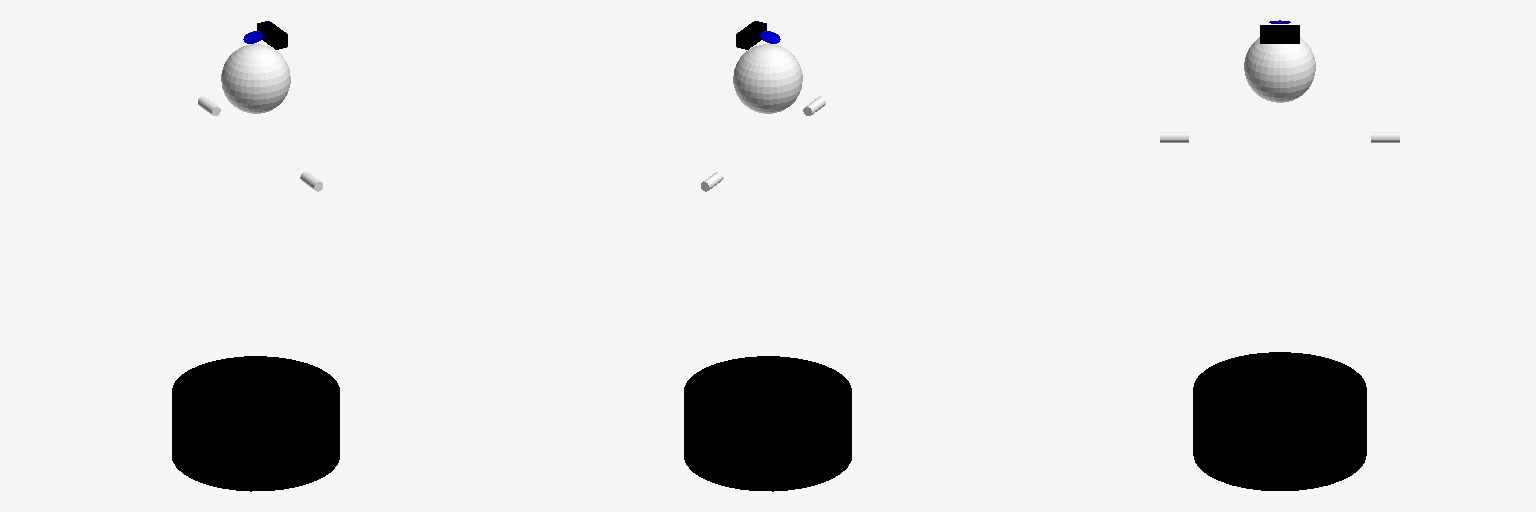
robot.urdf — quori:
<?xml version="1.0" ?>
<!-- =================================================================================== -->
<!-- |    This document was autogenerated by xacro from quori.xacro                    | -->
<!-- |    EDITING THIS FILE BY HAND IS NOT RECOMMENDED                                 | -->
<!-- =================================================================================== -->
<robot name="quori">
  <link name="quori/base_link">
    <inertial>
      <origin rpy="0 0 0" xyz="0 0 0.23"/>
      <mass value="2"/>
      <inertia ixx="0.052" ixy="0" ixz="0" iyy="0.052" iyz="0" izz="0.031"/>
    </inertial>
    <visual>
      <origin rpy="0 0 -1.57079632679" xyz="0.02 0 -0.2007174"/>
      <geometry>
        <mesh filename="model://quori/meshes/180915_Lower_Torso.dae"/>
      </geometry>
    </visual>
  </link>
  <link name="quori/body_upper">
    <inertial>
      <origin rpy="0 0 0" xyz="0 0 -0.01"/>
      <mass value="26.75"/>
      <inertia ixx="2.5" ixy="0" ixz="0" iyy="2.5" iyz="0" izz="0.134"/>
    </inertial>
    <visual>
      <origin rpy="0 0 -1.57079632679" xyz="0.02 0 -0.5476974"/>
      <geometry>
        <mesh filename="model://quori/meshes/0917_Upper_Torso+Waist.dae"/>
      </geometry>
    </visual>
  </link>
  <joint name="waist_pitch" type="revolute">
    <origin rpy="0 0 0" xyz="0 0 0.34798"/>
    <parent link="quori/base_link"/>
    <child link="quori/body_upper"/>
    <axis xyz="0 -1 0"/>
    <limit effort="1" lower="-0.47123889803846897" upper="0.2111848394913139" velocity="1"/>
  </joint>
  <link name="quori/r_shoulder">
    <inertial>
      <origin rpy="0 0 0" xyz="0 0 0"/>
      <mass value="0.01"/>
      <inertia ixx="0.01" ixy="0" ixz="0" iyy="0.0" iyz="0" izz="0.0"/>
    </inertial>
  </link>
  <joint name="r_shoulder_pitch" type="revolute">
    <origin rpy="0 0 0" xyz="0.015 -0.16403066 0.43021758"/>
    <parent link="quori/body_upper"/>
    <child link="quori/r_shoulder"/>
    <axis xyz="0 -1 0"/>
    <limit effort="1" lower="-2.4" upper="2.4" velocity="1"/>
  </joint>
  <link name="quori/r_arm_upper">
    <inertial>
      <origin rpy="0 0 0" xyz="0 0 0"/>
      <mass value="0.01"/>
      <inertia ixx="0.1" ixy="0" ixz="0" iyy="0.0" iyz="0" izz="0.0"/>
    </inertial>
    <visual>
      <origin rpy="-1.57079632679 0 0" xyz="0.165 -0.9765 -0.137"/>
      <geometry>
        <mesh filename="model://quori/meshes/0917_Upper_Arm+gear_right.dae"/>
      </geometry>
    </visual>
  </link>
  <joint name="r_shoulder_roll" type="revolute">
    <origin rpy="0 0 0" xyz="0 0 0"/>
    <parent link="quori/r_shoulder"/>
    <child link="quori/r_arm_upper"/>
    <axis xyz="-1 0 0"/>
    <limit effort="1" lower="-1.1" upper="1.1" velocity="1"/>
  </joint>
  <link name="quori/r_arm_upper2lower">
    <inertial>
      <origin rpy="0 0 0" xyz="0 0 0.3"/>
      <mass value="0.19"/>
      <inertia ixx="0.006" ixy="0" ixz="0" iyy="0.006" iyz="0" izz="0.0"/>
    </inertial>
    <visual>
      <origin rpy="-1.57079632679 0 0" xyz="0 -0.13 0"/>
      <geometry>
        <cylinder length="0.08" radius="0.015"/>
      </geometry>
      <material name="white"/>
    </visual>
  </link>
  <joint name="r_arm_upper2lower_j" type="fixed">
    <parent link="quori/r_arm_upper"/>
    <child link="quori/r_arm_upper2lower"/>
  </joint>
  <link name="quori/r_arm_lower">
    <inertial>
      <origin rpy="0 0 0" xyz="0 0 0"/>
      <mass value="0.01"/>
      <inertia ixx="0.1" ixy="0" ixz="0" iyy="0.0" iyz="0" izz="0.0"/>
    </inertial>
    <visual>
      <origin rpy="1.570759635 1.570759635 0" xyz="0 0 0"/>
      <geometry>
        <mesh filename="model://quori/meshes/0917_Lower_Arm_right.dae"/>
      </geometry>
    </visual>
  </link>
  <joint name="r_elbow_pitch" type="fixed">
    <origin rpy="0 0 0" xyz="0 -0.15 0"/>
    <parent link="quori/r_arm_upper"/>
    <child link="quori/r_arm_lower"/>
  </joint>
  <link name="quori/l_shoulder">
    <inertial>
      <origin rpy="0 0 0" xyz="0 0 0"/>
      <mass value="0.1"/>
      <inertia ixx="0.1" ixy="0" ixz="0" iyy="0.0" iyz="0" izz="0.0"/>
    </inertial>
  </link>
  <joint name="l_shoulder_pitch" type="revolute">
    <origin rpy="0 0 0" xyz="0.015 0.16403066 0.43021758"/>
    <parent link="quori/body_upper"/>
    <child link="quori/l_shoulder"/>
    <axis xyz="0 -1 0"/>
    <limit effort="1" lower="-2.4" upper="2.4" velocity="1"/>
  </joint>
  <link name="quori/l_arm_upper">
    <inertial>
      <origin rpy="0 0 0" xyz="0 0 0"/>
      <mass value="0.01"/>
      <inertia ixx="0.1" ixy="0" ixz="0" iyy="0.0" iyz="0" izz="0.0"/>
    </inertial>
    <visual>
      <origin rpy="-1.57079632679 0 -3.14" xyz="0.165 0.9765 -0.137"/>
      <geometry>
        <mesh filename="model://quori/meshes/0917_Upper_Arm+gear_left.dae"/>
      </geometry>
    </visual>
  </link>
  <joint name="l_shoulder_roll" type="revolute">
    <origin rpy="0 0 0" xyz="0 0 0"/>
    <parent link="quori/l_shoulder"/>
    <child link="quori/l_arm_upper"/>
    <axis xyz="1 0 0"/>
    <limit effort="1" lower="-1.1" upper="1.1" velocity="1"/>
  </joint>
  <link name="quori/l_arm_upper2lower">
    <inertial>
      <origin rpy="0 0 0" xyz="0 0 0.3"/>
      <mass value="0.19"/>
      <inertia ixx="0.006" ixy="0" ixz="0" iyy="0.006" iyz="0" izz="0.0"/>
    </inertial>
    <visual>
      <origin rpy="-1.57079632679 0 0" xyz="0 0.13 0"/>
      <geometry>
        <cylinder length="0.08" radius="0.015"/>
      </geometry>
      <material name="white"/>
    </visual>
  </link>
  <joint name="l_arm_upper2lower_j" type="fixed">
    <parent link="quori/l_arm_upper"/>
    <child link="quori/l_arm_upper2lower"/>
  </joint>
  <link name="quori/l_arm_lower">
    <inertial>
      <origin rpy="0 0 0" xyz="0 0 0"/>
      <mass value="0.01"/>
      <inertia ixx="0.1" ixy="0" ixz="0" iyy="0.0" iyz="0" izz="0.0"/>
    </inertial>
    <visual>
      <origin rpy="-1.570759635 -1.570759635 0" xyz="0 0 0"/>
      <geometry>
        <mesh filename="model://quori/meshes/0917_Lower_Arm_left.dae"/>
      </geometry>
    </visual>
  </link>
  <joint name="l_elbow_pitch" type="fixed">
    <origin rpy="0 0 0" xyz="0 0.15 0"/>
    <parent link="quori/l_arm_upper"/>
    <child link="quori/l_arm_lower"/>
  </joint>
  <link name="quori/head">
    <inertial>
      <origin rpy="0 0 0" xyz="0 0 0"/>
      <mass value="1.9"/>
      <inertia ixx="0.008" ixy="0" ixz="0" iyy="0.0056" iyz="0" izz="0.0056"/>
    </inertial>
    <visual>
      <origin rpy="0 0 -1.57079632679" xyz="0.01 0 -1.11"/>
      <geometry>
        <mesh filename="model://quori/meshes/0917_Helmet_Duripod.dae"/>
      </geometry>
    </visual>
  </link>
  <link name="quori/face">
    <visual>
      <origin xyz="0 0 0.085"/>
      <geometry>
        <sphere radius="0.1"/>
      </geometry>
      <material name="white"/>
    </visual>
  </link>
  <joint name="head_swivel" type="fixed">
    <parent link="quori/head"/>
    <child link="quori/face"/>
  </joint>
  <gazebo reference="quori/face">
    <visual>
      <plugin filename="libfaceplugin.so" name="faceplugin"> <!-- Plugin to project images to the face. This package is in the CMU repository-->
        <robotNamespace>quori</robotNamespace>
        <height>120</height>
        <width>240</width>
      </plugin>
    </visual>
  </gazebo>
  <joint name="neck" type="fixed">
    <origin rpy="0 0 0" xyz="0 0 0.554"/>
    <parent link="quori/body_upper"/>
    <child link="quori/head"/>
  </joint>
  <joint name="head_camera_optical_joint" type="fixed">
    <origin rpy="-1.57079632679 0 -1.57079632679" xyz="0 0 0"/>
    <parent link="quori/head_camera"/>
    <child link="quori/head_camera_optical"/>
  </joint>
  <link name="quori/head_camera_optical">
  </link>
  <link name="quori/head_camera">
    <inertial>
      <origin rpy="0 0 0" xyz="0 0 0"/>
      <mass value="0.3"/>
      <inertia ixx="0.0004" ixy="0" ixz="0" iyy="0.0001" iyz="0" izz="0.0004"/>
    </inertial>
    <visual>
      <geometry>
        <box size="0.04 0.11 0.04"/>
      </geometry>
      <origin rpy="0 0 0" xyz="0 0 -0"/>
      <material name="black"/>
    </visual>
  </link>
  <joint name="camera_pitch" type="fixed">
    <origin rpy="0 0 0" xyz="0.055 0 0.21"/>
    <parent link="quori/head"/>
    <child link="quori/head_camera"/>
  </joint>
  <link name="quori/head_mic">
    <inertial>
      <origin rpy="0 0 0" xyz="0 0 0"/>
      <mass value="0.05"/>
      <inertia ixx="0.1" ixy="0" ixz="0" iyy="0.0" iyz="0" izz="0.0"/>
    </inertial>
    <visual>
      <geometry>
        <cylinder length="0.002" radius="0.03"/>
      </geometry>
      <origin rpy="0 0 0" xyz="0 0 -0"/>
      <material name="blue"/>
    </visual>
  </link>
  <joint name="mic_array" type="fixed">
    <origin rpy="0 -.3 0" xyz="-0.008 0 0.218"/>
    <parent link="quori/head"/>
    <child link="quori/head_mic"/>
  </joint>
  <material name="ramsis/base_link_material">
    <color rgba="0 0 0 1"/>
  </material>
  <material name="ramsis/laser_scanner_material">
    <color rgba="0.3 0.3 0.3 1"/>
  </material>
  <link name="ramsis/base_link_diff">
    <inertial>
      <origin rpy="0 0 0" xyz="0 0 0.1013587"/>
      <mass value="9.8"/>
      <inertia ixx="0.176" ixy="0" ixz="0" iyy="0.176" iyz="0" izz="0.285"/>
    </inertial>
    <visual>
      <origin rpy="0 0 0" xyz="0 0 0.1013587"/>
      <geometry>
        <cylinder length="0.2027174" radius="0.2413"/>
      </geometry>
      <material name="ramsis/base_link_material"/>
    </visual>
  </link>
  <link name="ramsis/base_laser_scanner">
    <inertial>
      <mass value="0.17"/>
      <inertia ixx="0.0001" ixy="0" ixz="0" iyy="0.0001" iyz="0" izz="0.0001"/>
    </inertial>
    <visual>
      <geometry>
        <cylinder length="0.025" radius="0.05"/>
      </geometry>
      <origin rpy="0 0 0" xyz="0 0 -0"/>
      <material name="ramsis/laser_scanner_material"/>
    </visual>
  </link>
  <joint name="laser_scanner_joint" type="fixed">
    <origin rpy="0 0.0 -1.5707" xyz="0.152 0 0.156"/>
    <parent link="ramsis/base_link_diff"/>
    <child link="ramsis/base_laser_scanner"/>
  </joint>
  <link name="ramsis/turret_link">
    <inertial>
      <origin rpy="0 0 0" xyz="0 0 0"/>
      <mass value="0.01"/>
      <inertia ixx="0.01" ixy="0" ixz="0" iyy="0.0" iyz="0" izz="0.0"/>
    </inertial>
  </link>
  <link name="ramsis/base_link">
    <inertial>
      <origin rpy="0 0 0" xyz="0 0 0"/>
      <mass value="0.01"/>
      <inertia ixx="0.01" ixy="0" ixz="0" iyy="0.0" iyz="0" izz="0.0"/>
    </inertial>
  </link>
  <link name="ramsis/l_wheel_link">
    <inertial>
      <origin rpy="0 0 0" xyz="0 0 0"/>
      <mass value="0.1"/>
      <inertia ixx="0.1" ixy="0" ixz="0" iyy="0.0" iyz="0" izz="0.0"/>
    </inertial>
  </link>
  <link name="ramsis/r_wheel_link">
    <inertial>
      <origin rpy="0 0 0" xyz="0 0 0"/>
      <mass value="0.1"/>
      <inertia ixx="0.1" ixy="0" ixz="0" iyy="0.0" iyz="0" izz="0.0"/>
    </inertial>
  </link>
  <joint name="ramsis/wheel_axle_joint" type="fixed">
    <origin xyz="0.1 0 -0.075"/>
    <parent link="ramsis/wheel_axle"/>
    <child link="ramsis/base_link_diff"/>
  </joint>
  <joint name="turret2base" type="fixed">
    <origin xyz="0 0 -0.2027174"/>
    <parent link="ramsis/turret_link"/>
    <child link="ramsis/base_link"/>
  </joint>
  <link name="ramsis/wheel_axle">
    <inertial>
      <origin rpy="0 0 0" xyz="0 0 0"/>
      <mass value="0.00"/>
      <inertia ixx="0.00" ixy="0" ixz="0" iyy="0.0" iyz="0" izz="0.0"/>
    </inertial>
  </link>
  <joint name="l_wheel" type="continuous">
    <origin rpy="0 0 0" xyz="0 0.12284075 0"/>
    <parent link="ramsis/wheel_axle"/>
    <child link="ramsis/l_wheel_link"/>
    <axis xyz="0 1 0"/>
    <limit effort="1" velocity="0.5"/>
  </joint>
  <joint name="r_wheel" type="continuous">
    <origin rpy="0 0 0" xyz="0 -0.12284075 0"/>
    <parent link="ramsis/wheel_axle"/>
    <child link="ramsis/r_wheel_link"/>
    <axis xyz="0 1 0"/>
    <limit effort="1" velocity="0.5"/>
  </joint>
  <joint name="turret" type="continuous">
    <origin rpy="0 0 0" xyz="0 0 0.2027174"/>
    <parent link="ramsis/base_link_diff"/>
    <child link="ramsis/turret_link"/>
    <axis xyz="0 0 1"/>
    <limit effort="1" velocity="3"/>
  </joint>
  <quori_kinematics/>
  <ramsis_kinematics/>
  <material name="blue">
    <color rgba="0 0 0.8 1"/>
  </material>
  <material name="black">
    <color rgba="0 0 0 1"/>
  </material>
  <material name="white">
    <color rgba="1 1 1 1"/>
  </material>
  <material name="gray">
    <color rgba="0.5 0.5 0.5 1"/>
  </material>
  <!-- Join the quori robot to the ramsis robot's turret joint -->
  <joint name="ramsis_quori_connector" type="fixed">
    <parent link="ramsis/turret_link"/>
    <child link="quori/base_link"/>
  </joint>
  <link name="world"/>
  <joint name="fixed" type="fixed">
    <parent link="world"/>
    <child link="ramsis/wheel_axle"/>
  </joint>
  <transmission name="waist_pitch_tran">
    <type>transmission_interface/SimpleTransmission</type>
    <actuator name="waist_pitch_motor">
      <hardwareInterface>hardware_interface/PositionJointInterface</hardwareInterface>
      <mechanicalReduction>1</mechanicalReduction>
    </actuator>
    <joint name="waist_pitch">
      <hardwareInterface>hardware_interface/PositionJointInterface</hardwareInterface>
    </joint>
  </transmission>
  <transmission name="r_shoulder_pitch_tran">
    <type>transmission_interface/SimpleTransmission</type>
    <actuator name="r_shoulder_pitch_motor">
      <hardwareInterface>hardware_interface/PositionJointInterface</hardwareInterface>
      <mechanicalReduction>1</mechanicalReduction>
    </actuator>
    <joint name="r_shoulder_pitch">
      <hardwareInterface>hardware_interface/PositionJointInterface</hardwareInterface>
    </joint>
  </transmission>
  <transmission name="r_shoulder_roll_tran">
    <type>transmission_interface/SimpleTransmission</type>
    <actuator name="r_shoulder_roll_motor">
      <hardwareInterface>hardware_interface/PositionJointInterface</hardwareInterface>
      <mechanicalReduction>1</mechanicalReduction>
    </actuator>
    <joint name="r_shoulder_roll">
      <hardwareInterface>hardware_interface/PositionJointInterface</hardwareInterface>
    </joint>
  </transmission>
  <transmission name="l_shoulder_pitch_tran">
    <type>transmission_interface/SimpleTransmission</type>
    <actuator name="l_shoulder_pitch_motor">
      <hardwareInterface>hardware_interface/PositionJointInterface</hardwareInterface>
      <mechanicalReduction>1</mechanicalReduction>
    </actuator>
    <joint name="l_shoulder_pitch">
      <hardwareInterface>hardware_interface/PositionJointInterface</hardwareInterface>
    </joint>
  </transmission>
  <transmission name="l_shoulder_roll_tran">
    <type>transmission_interface/SimpleTransmission</type>
    <actuator name="l_shoulder_roll_motor">
      <hardwareInterface>hardware_interface/PositionJointInterface</hardwareInterface>
      <mechanicalReduction>1</mechanicalReduction>
    </actuator>
    <joint name="l_shoulder_roll">
      <hardwareInterface>hardware_interface/PositionJointInterface</hardwareInterface>
    </joint>
  </transmission>
  <transmission name="l_wheel_tran">
    <type>transmission_interface/SimpleTransmission</type>
    <actuator name="l_wheel_motor">
      <hardwareInterface>hardware_interface/VelocityJointInterface</hardwareInterface>
      <mechanicalReduction>1</mechanicalReduction>
    </actuator>
    <joint name="l_wheel">
      <hardwareInterface>hardware_interface/VelocityJointInterface</hardwareInterface>
    </joint>
  </transmission>
  <transmission name="r_wheel_tran">
    <type>transmission_interface/SimpleTransmission</type>
    <actuator name="r_wheel_motor">
      <hardwareInterface>hardware_interface/VelocityJointInterface</hardwareInterface>
      <mechanicalReduction>1</mechanicalReduction>
    </actuator>
    <joint name="r_wheel">
      <hardwareInterface>hardware_interface/VelocityJointInterface</hardwareInterface>
    </joint>
  </transmission>
  <transmission name="turret_tran">
    <type>transmission_interface/SimpleTransmission</type>
    <actuator name="turret_motor">
      <hardwareInterface>hardware_interface/PositionJointInterface</hardwareInterface>
      <mechanicalReduction>1</mechanicalReduction>
    </actuator>
    <joint name="turret">
      <hardwareInterface>hardware_interface/PositionJointInterface</hardwareInterface>
    </joint>
  </transmission>
  <gazebo reference="quori/body_upper">
    <material>Gazebo/White</material>
  </gazebo>
  <gazebo reference="quori/base_link">
    <material>Gazebo/White</material>
  </gazebo>
  <gazebo reference="quori/head">
    <material>Gazebo/White</material>
  </gazebo>
  <gazebo reference="quori/r_arm_upper">
    <material>Gazebo/White</material>
  </gazebo>
  <gazebo reference="quori/r_arm_lower">
    <material>Gazebo/White</material>
  </gazebo>
  <gazebo reference="quori/l_arm_upper">
    <material>Gazebo/White</material>
  </gazebo>
  <gazebo reference="quori/l_arm_lower">
    <material>Gazebo/White</material>
  </gazebo>
  <gazebo reference="base_link_diff">
    <material>Gazebo/White</material>
  </gazebo>
  <gazebo>
    <plugin filename="libgazebo_ros_control.so" name="gazebo_ros_control">
      <!-- <robotNamespace>/quori</robotNamespace> -->
      <robotSimType>gazebo_ros_control/DefaultRobotHWSim</robotSimType>
    </plugin>
  </gazebo>
</robot>

--- Facts derived from the render (not from the file) ---
The picture shows the robot from 3 angles, left to right: view 1: azimuth 30°, elevation 25°; view 2: azimuth 150°, elevation 25°; view 3: azimuth 270°, elevation 25°; orthographic projection.
Robot: quori — 23 links, 22 joints (5 revolute, 3 continuous, 14 fixed); root link world; default pose: every joint at zero.
Visible links, largest first — view 1: ramsis/base_link_diff, quori/face, quori/head_camera; view 2: ramsis/base_link_diff, quori/face, quori/head_camera; view 3: ramsis/base_link_diff, quori/face, quori/head_camera.
Link boxes in pixels (x1,y1,x2,y2): ramsis/base_link_diff: (172, 356, 339, 491); quori/face: (221, 44, 290, 113); quori/head_camera: (257, 21, 287, 49); ramsis/base_link_diff: (684, 356, 851, 491); quori/face: (733, 44, 802, 113); quori/head_camera: (736, 21, 766, 49); ramsis/base_link_diff: (1193, 352, 1366, 490); quori/face: (1244, 37, 1315, 102); quori/head_camera: (1260, 25, 1299, 43).
Size in the robot's own frame: 0.4826 by 0.6681 by 1.33 metres.
Meshes: 7 distinct files referenced, 0 mesh visuals loaded (none loaded); not drawn: 1 (reference not matched to a file when rendering), 6 (file found but could not be loaded).
